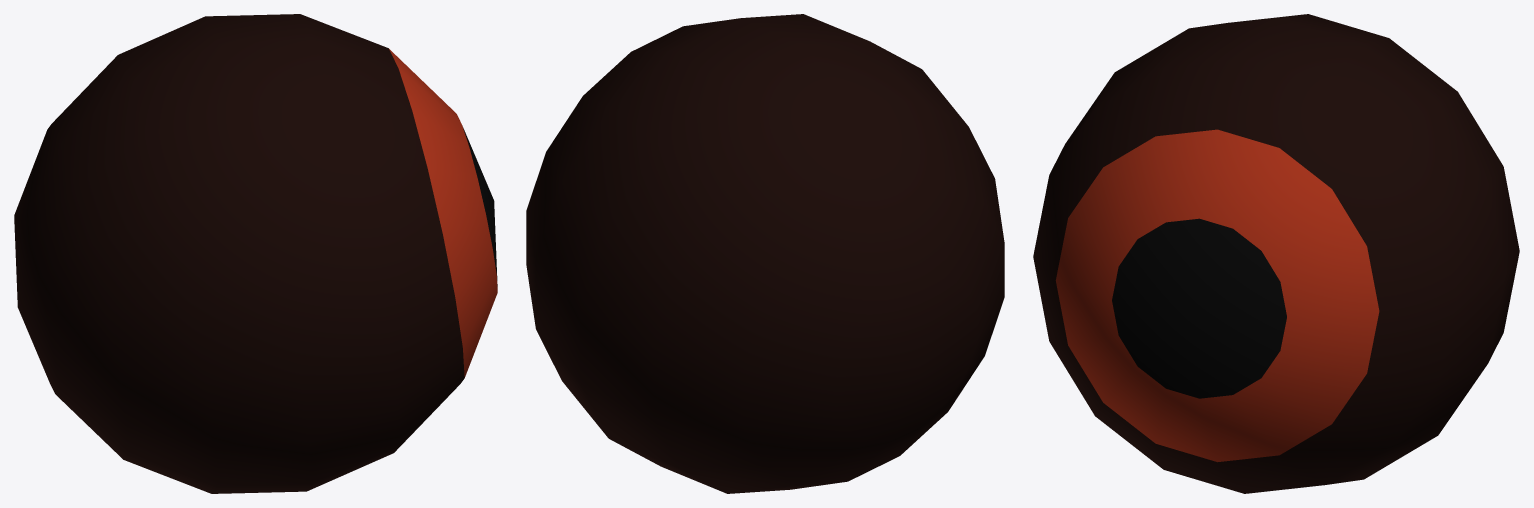
The model's file is tortoise_eye.obj.
3 views of the same model, side by side, from view 1: azimuth 30°, elevation 25°; view 2: azimuth 150°, elevation 25°; view 3: azimuth 270°, elevation 25° (orthographic).
Visible parts, largest first — view 1: eye; view 2: eye; view 3: eye.
Part boxes in pixels (x1,y1,x2,y2): eye: (14, 14, 497, 493); eye: (526, 14, 1004, 493); eye: (1033, 14, 1519, 493).
Bounding box in the file's own units: 0.00982 × 0.00967 × 0.00981.
